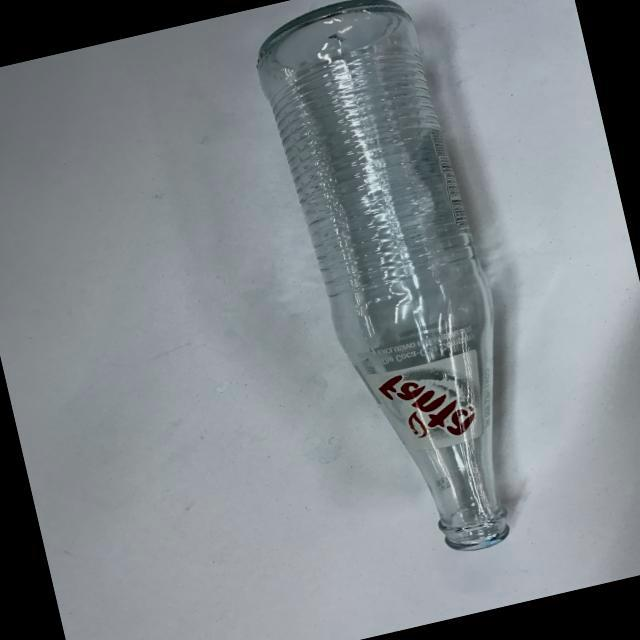glass: (233, 0, 575, 582)
